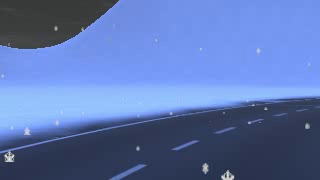Lane: (1, 98, 319, 179)
